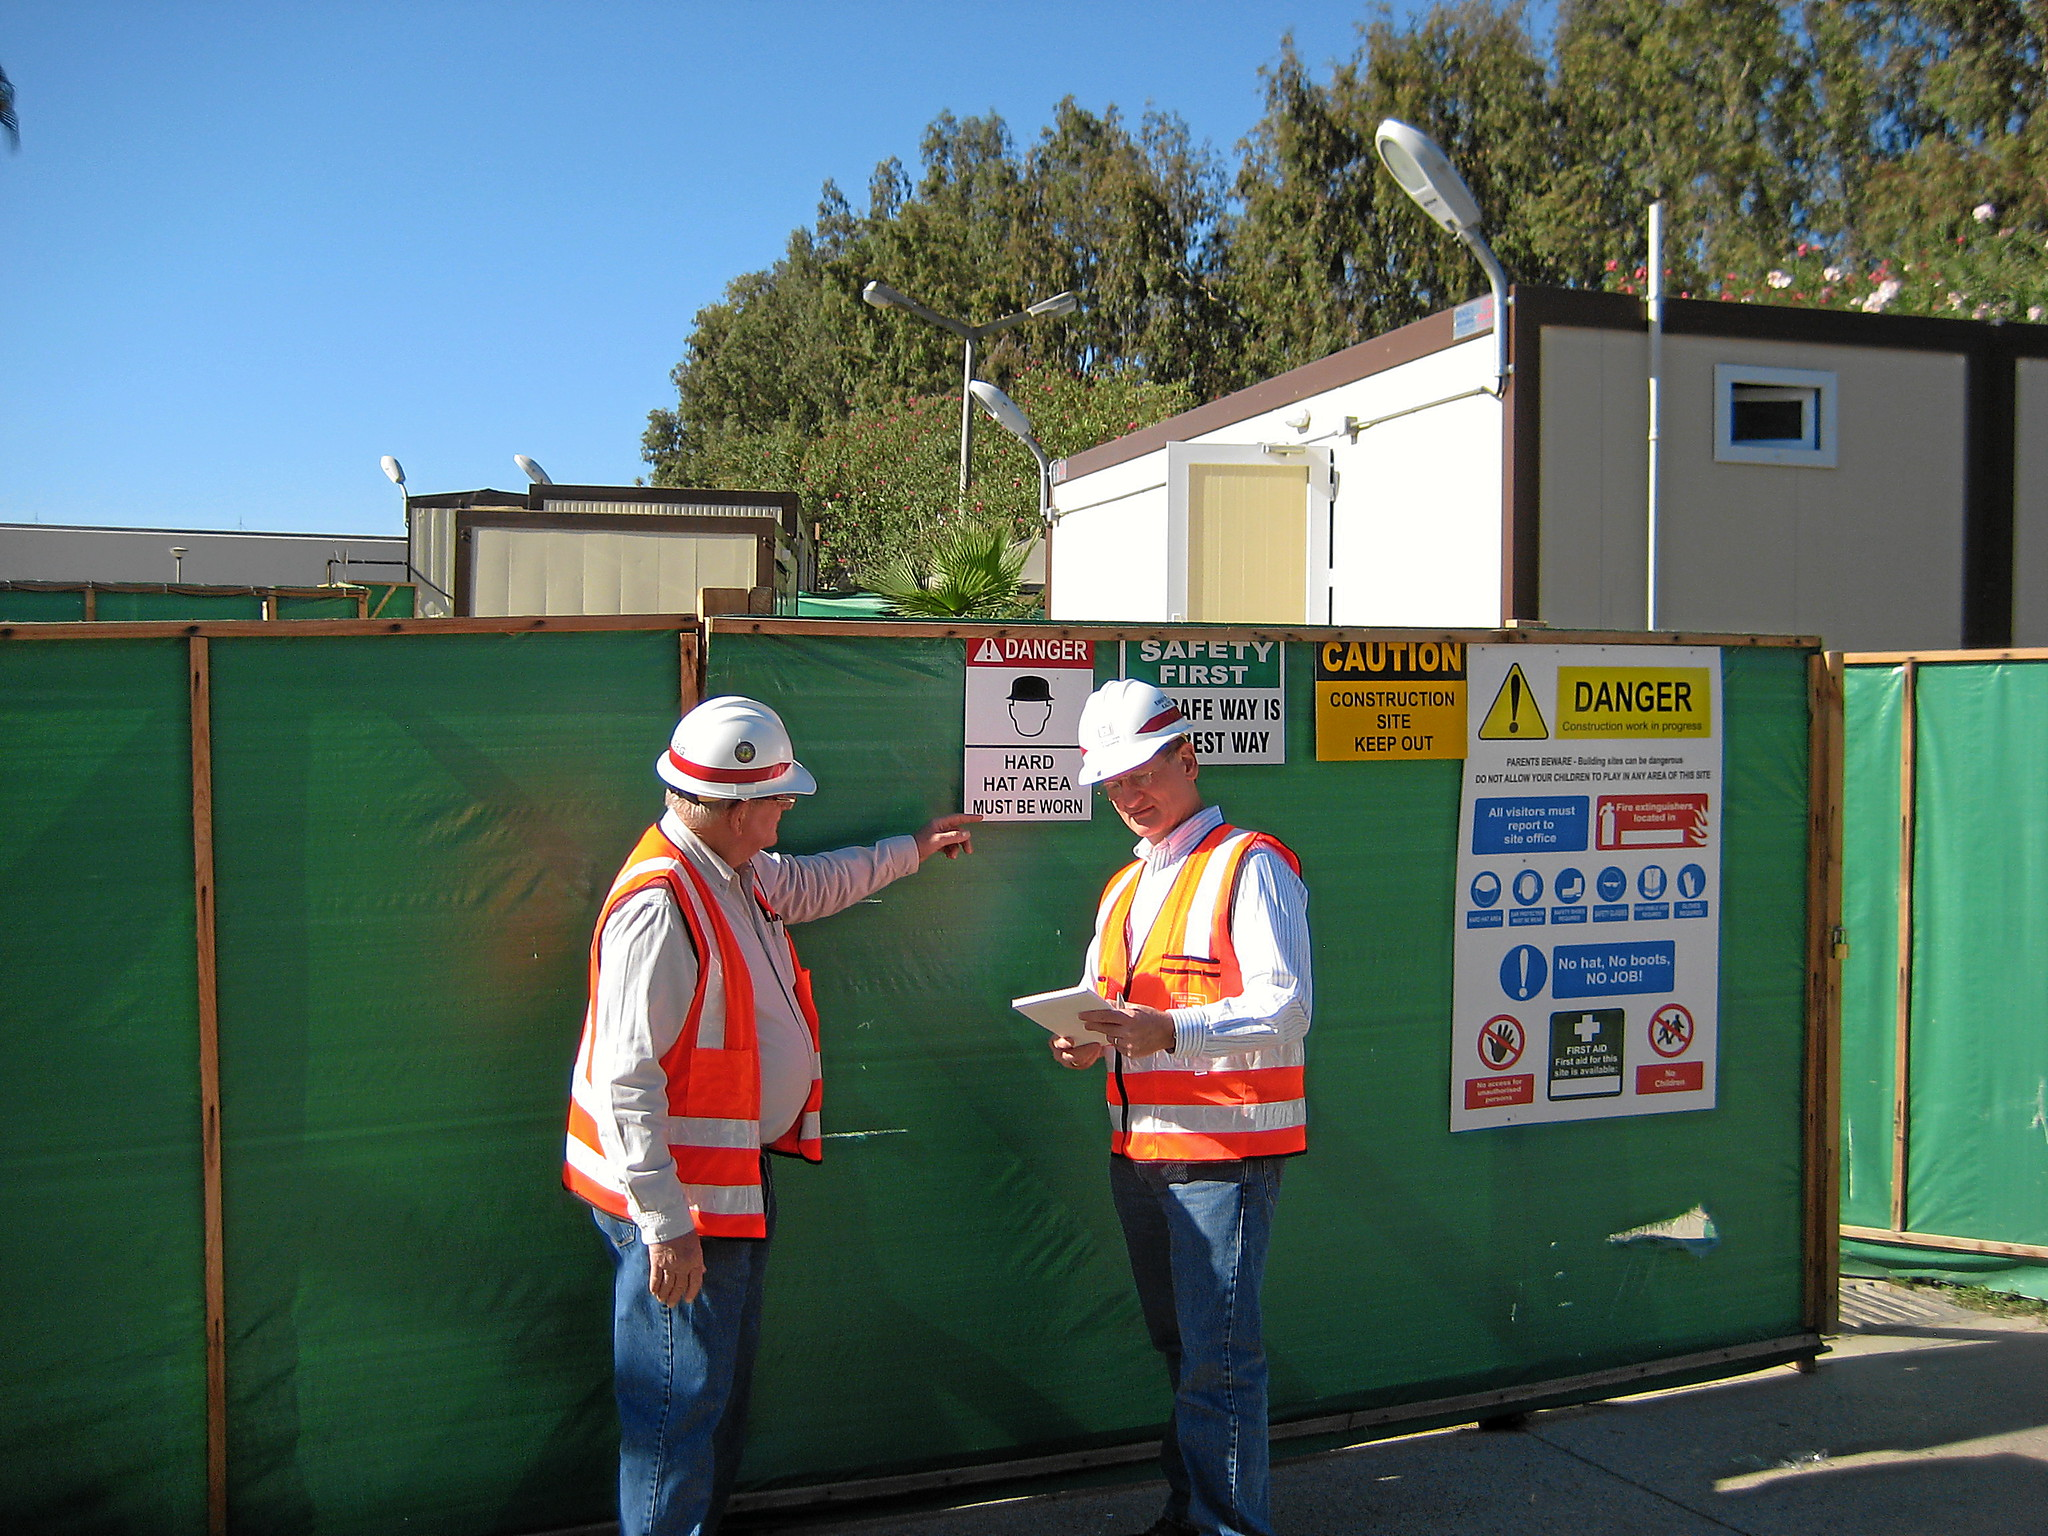Helmet: (643, 681, 834, 889), (1053, 666, 1222, 860)
Reflective vest: (548, 820, 835, 1255), (1074, 824, 1329, 1171)
